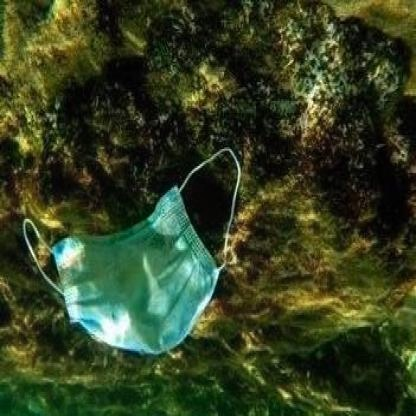Mask: (17, 145, 243, 358)
